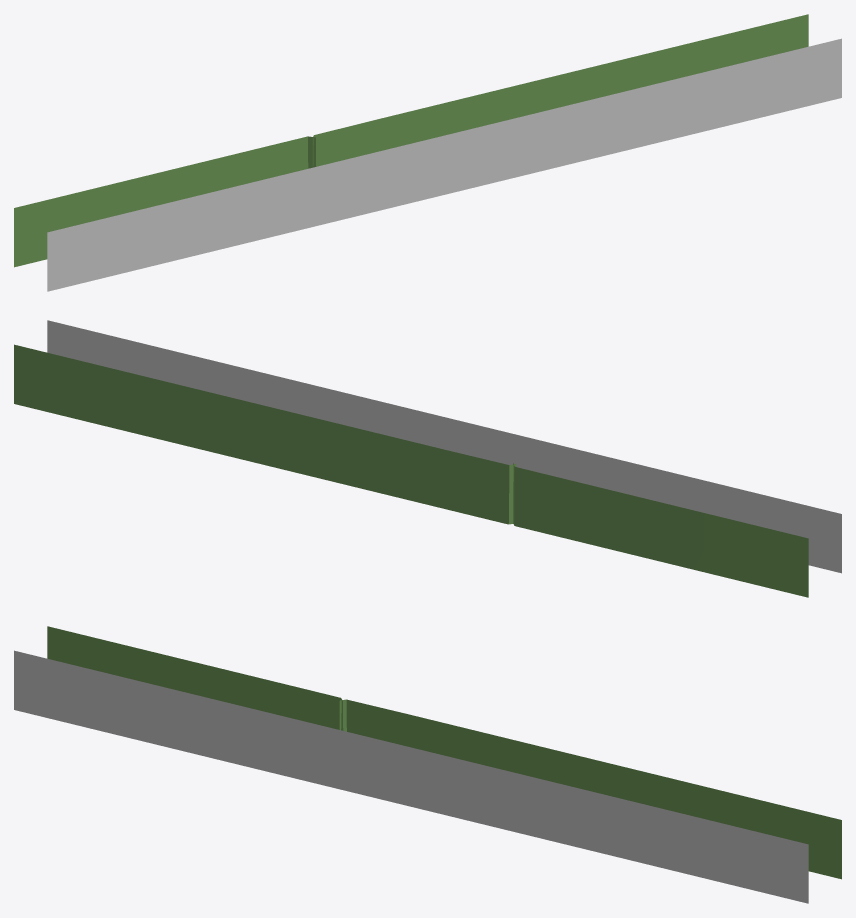
3 views of the same model, one above another, from view 1: azimuth 30°, elevation 25°; view 2: azimuth 150°, elevation 25°; view 3: azimuth 330°, elevation 25° (orthographic).
Visible parts, largest first — view 1: 1C5F375F4A7B6DD09B033997E5B35551; view 2: 1C5F375F4A7B6DD09B033997E5B35551; view 3: 1C5F375F4A7B6DD09B033997E5B35551.
Boxes of the visible parts, left/top/right/bottom form: 1C5F375F4A7B6DD09B033997E5B35551: left=14, top=14, right=841, bottom=291; 1C5F375F4A7B6DD09B033997E5B35551: left=14, top=320, right=841, bottom=597; 1C5F375F4A7B6DD09B033997E5B35551: left=14, top=626, right=841, bottom=903.
Size of the model in its own units: 7.92 by 109 by 7.79.
